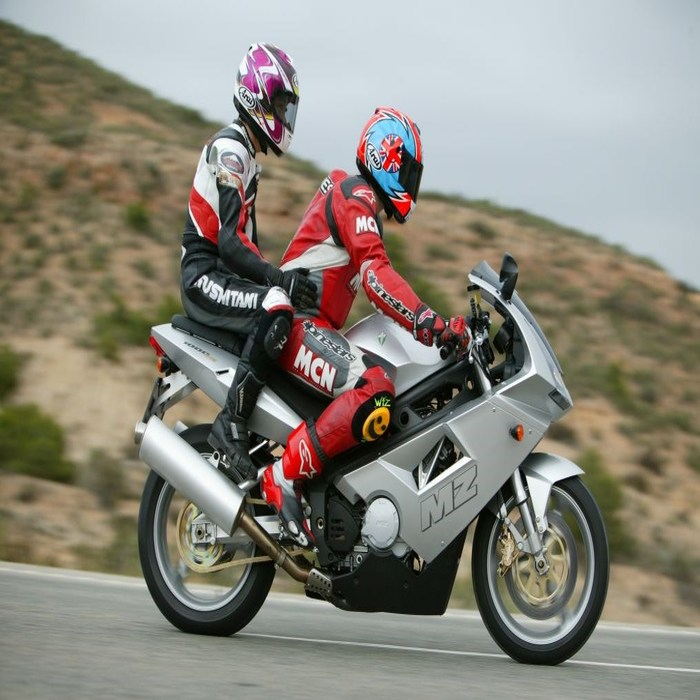h: (233, 35, 300, 167), (356, 104, 423, 226)
